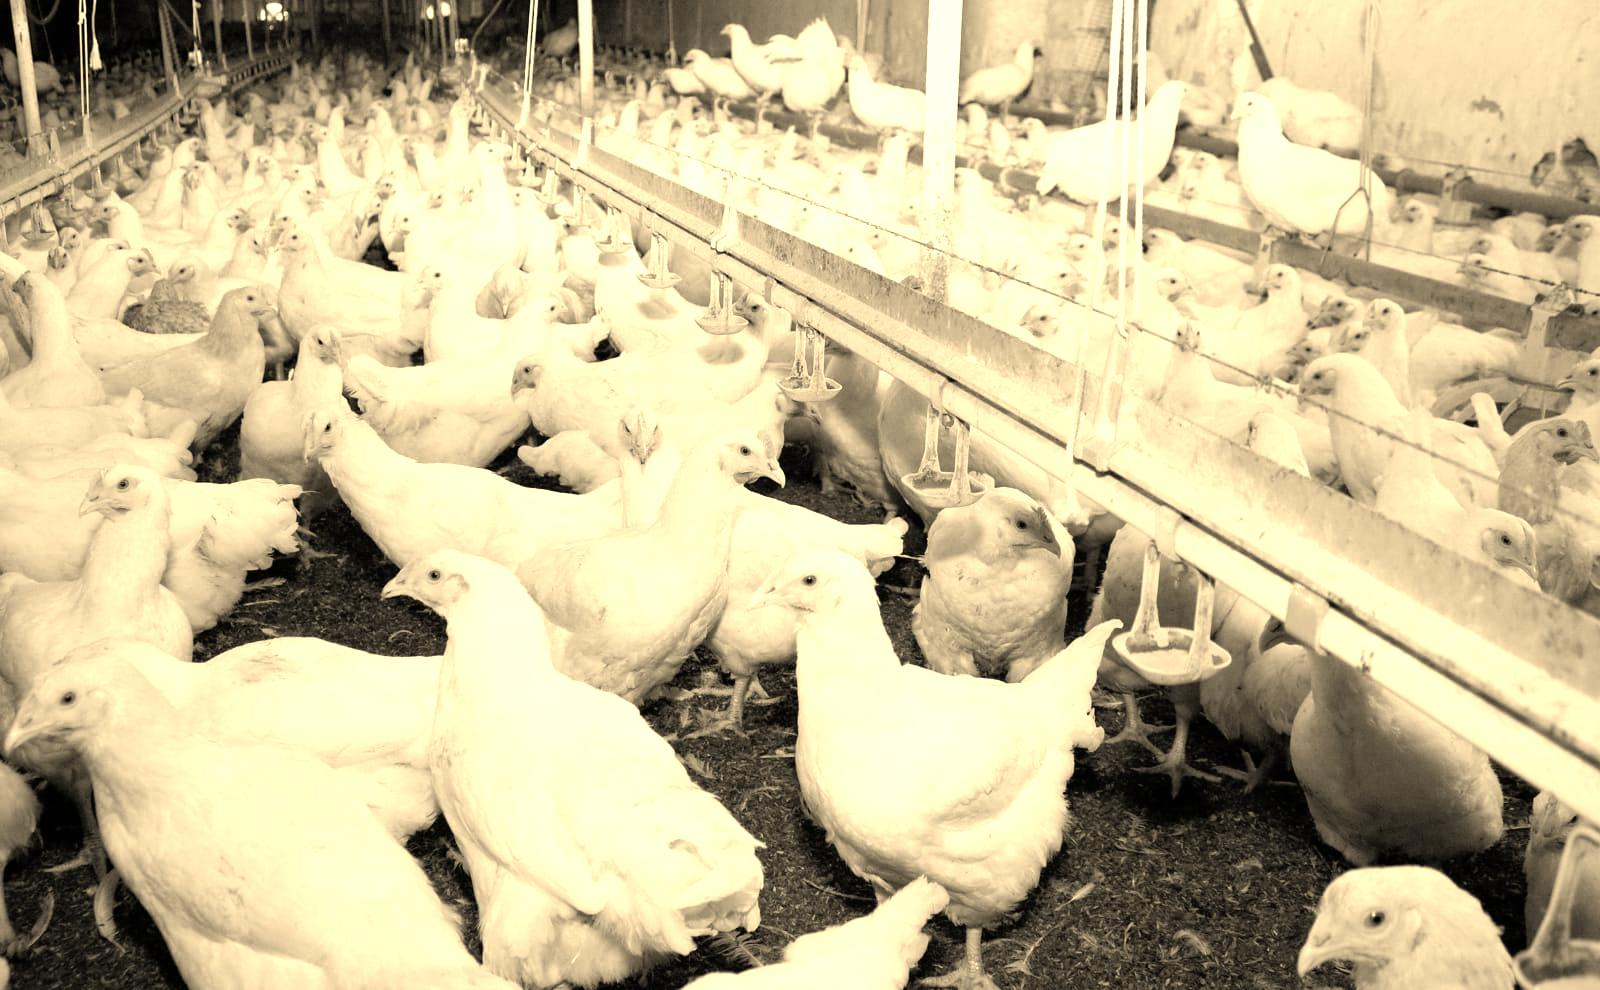Healthy: (366, 522, 777, 960)
